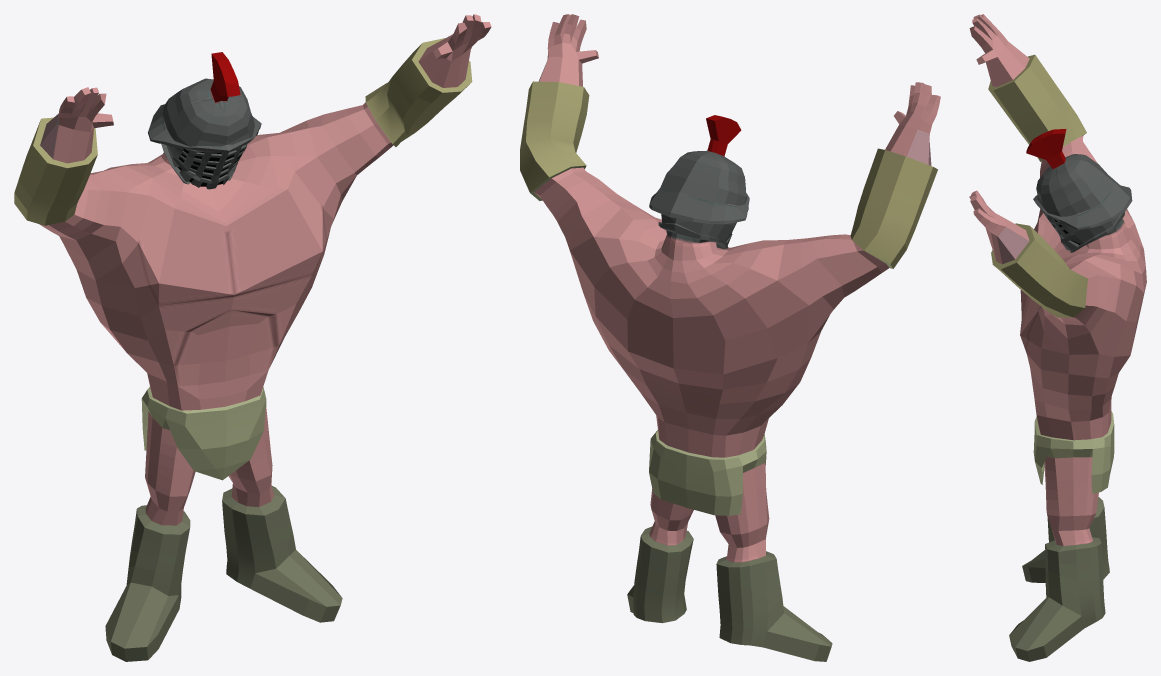
File: GladiatorCelebracion_000552.obj
3 views of the same model, side by side, from view 1: azimuth 30°, elevation 25°; view 2: azimuth 150°, elevation 25°; view 3: azimuth 270°, elevation 25° (orthographic). The views are drawn at different scales.
Visible parts, largest first — view 1: Gadiador_Gladiador_H; view 2: Gadiador_Gladiador_H; view 3: Gadiador_Gladiador_H.
Boxes of the visible parts, x1,y1,x2,y2 form: Gadiador_Gladiador_H: (14,14,491,661); Gadiador_Gladiador_H: (520,14,940,661); Gadiador_Gladiador_H: (969,14,1146,661).
Size of the model in its own units: 6.06 by 8.15 by 2.48.
1 material, 1 textured.
